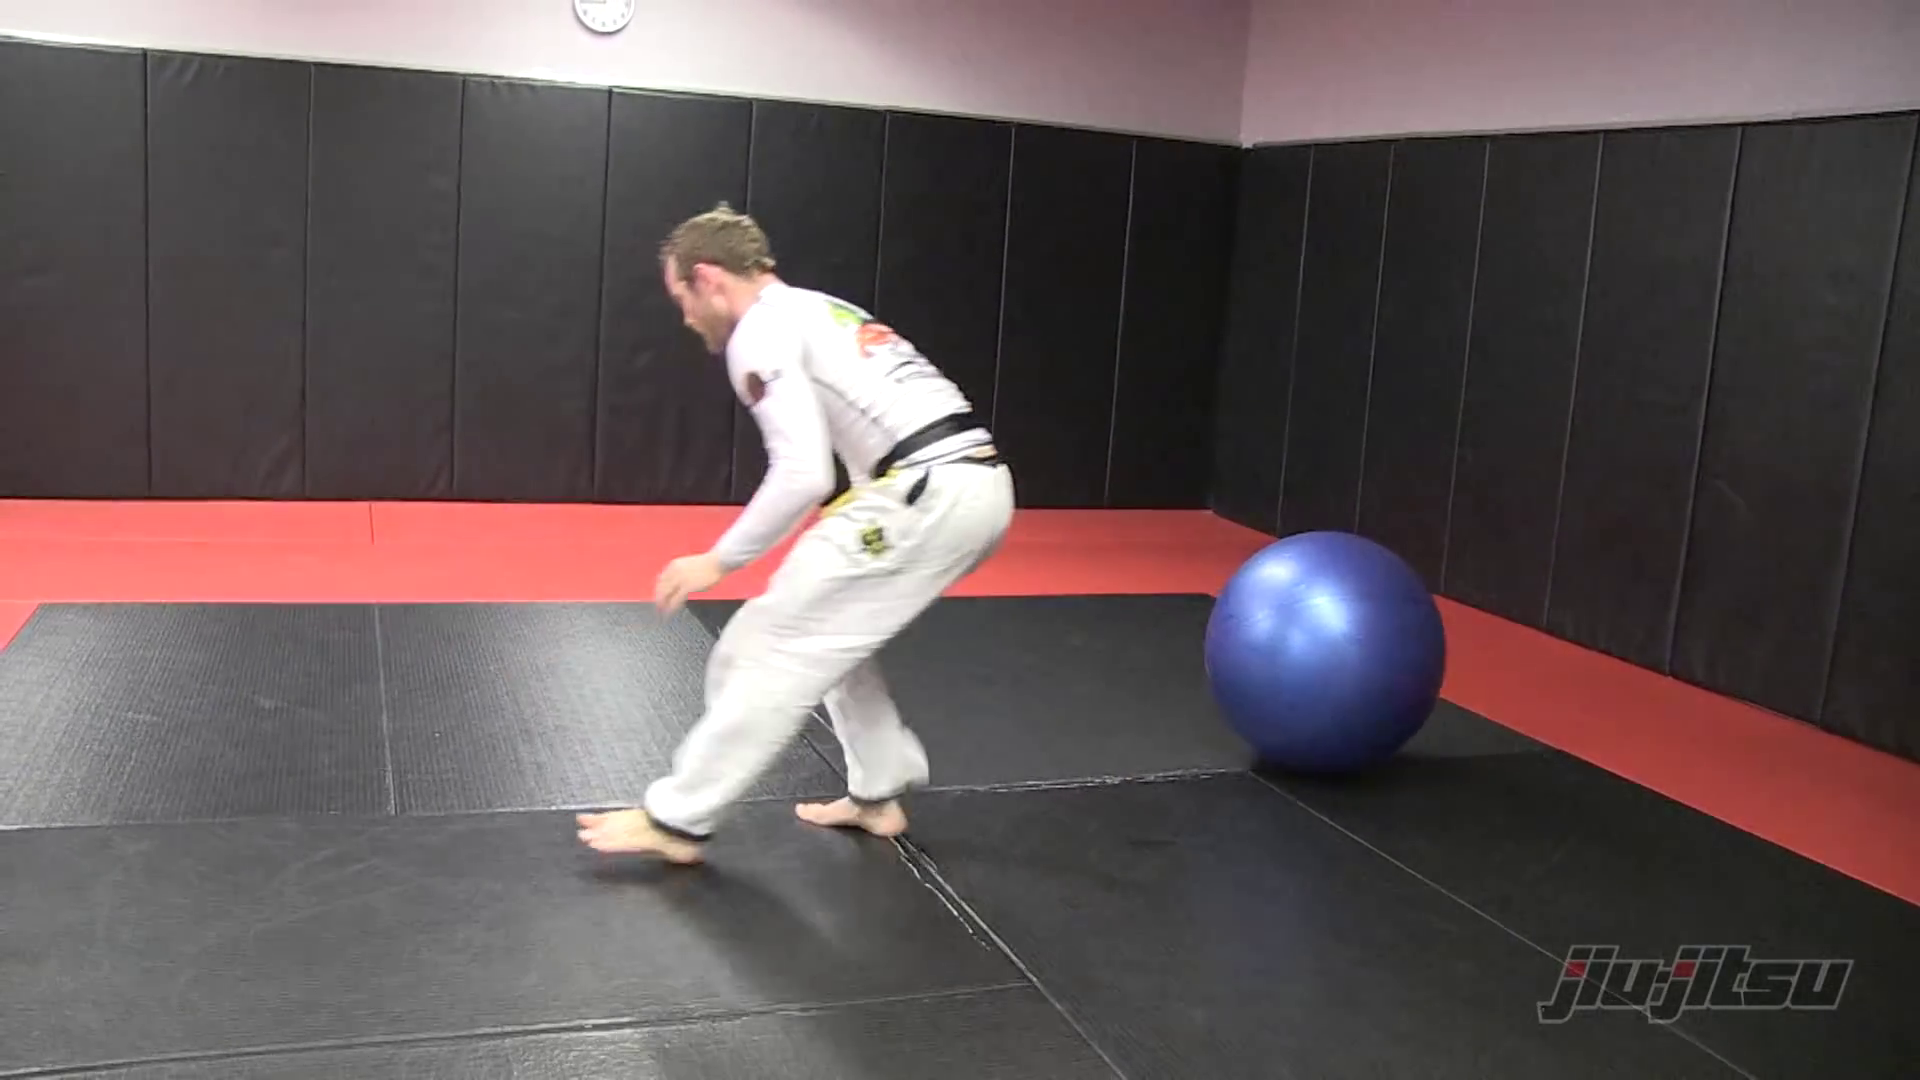yogaball: (1187, 516, 1470, 793)
